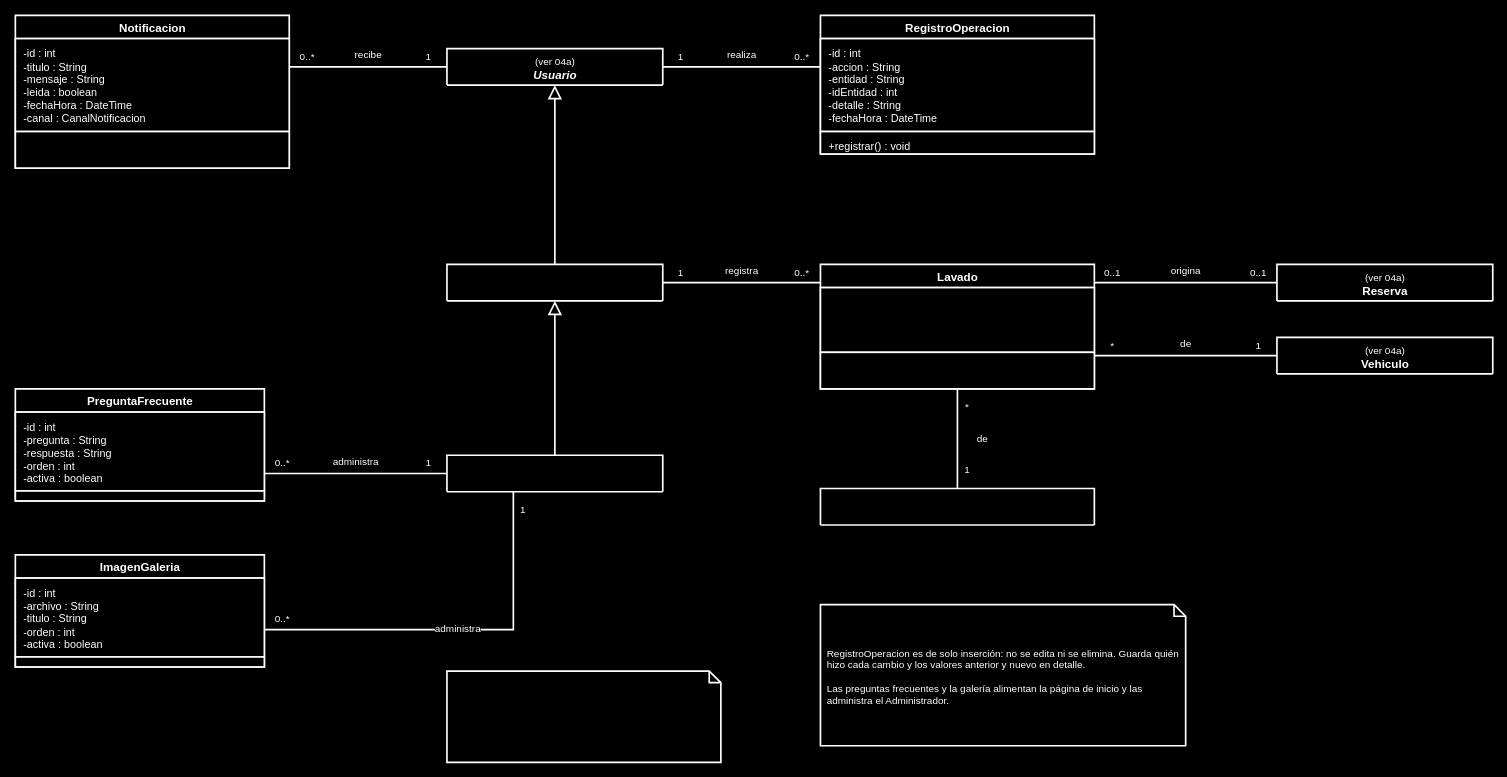
Some shapes in this 1507 by 777 pixel diagram are drawn without their labels. The shapes that lost their labels are listed below. From the top down, each one's centre as x and y in pixels, then its label:
pixel 152 149: +marcarLeida() : void +enviarPorCorreo() : void
pixel 554 282: (ver 04a) Empleado
pixel 957 319: -id : int -horaLlegada : Time -precio : double -estado : EstadoLavado
pixel 957 370: +registrarLlegada() : void +marcarTerminado() : void
pixel 554 473: (ver 04a) Administrador
pixel 957 506: (ver 04a) Servicio
pixel 583 716: CanalNotificacion = Interna | Correo EstadoLavado = Pendiente | Terminado
